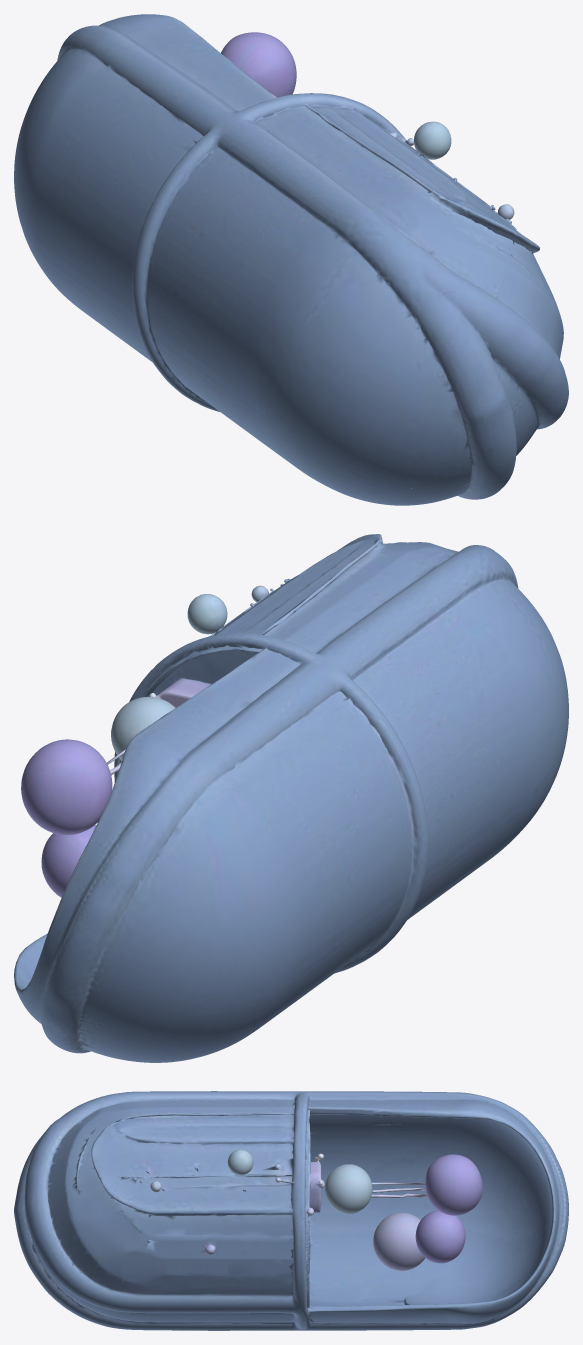
The picture shows the model from 3 angles, top to bottom: view 1: azimuth 30°, elevation 25°; view 2: azimuth 150°, elevation 25°; view 3: azimuth 270°, elevation 25°; orthographic projection. The views are drawn at different scales.
Parts seen in each view (by area): view 1: tripo_node_0ce52538-0da3-4bc7-88b1-fbea639109cf; view 2: tripo_node_0ce52538-0da3-4bc7-88b1-fbea639109cf; view 3: tripo_node_0ce52538-0da3-4bc7-88b1-fbea639109cf.
Boxes of the visible parts, x1,y1,x2,y2 form: tripo_node_0ce52538-0da3-4bc7-88b1-fbea639109cf: (14,14,568,505); tripo_node_0ce52538-0da3-4bc7-88b1-fbea639109cf: (14,534,568,1062); tripo_node_0ce52538-0da3-4bc7-88b1-fbea639109cf: (14,1091,568,1330).
Bounding box in the file's own units: 0.4127 × 0.4198 × 0.9792.
Materials: 1 (1 with a texture image).
